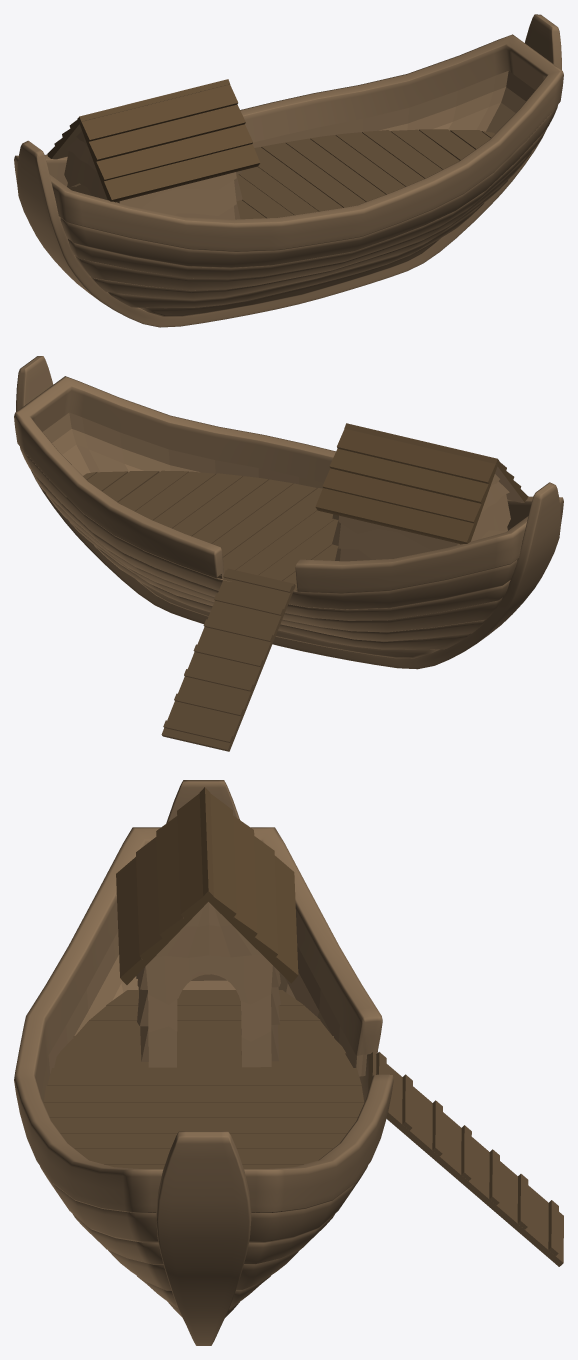
The model's file is Noah Ark - Fixed inner walls.fbx.
3 renders of one model, top to bottom at view 1: azimuth 30°, elevation 25°; view 2: azimuth 150°, elevation 25°; view 3: azimuth 270°, elevation 25°, orthographic. The views are drawn at different scales.
Visible parts, largest first — view 1: Noah_Ark; view 2: Noah_Ark; view 3: Noah_Ark.
Part boxes in pixels (<box>): Noah_Ark: <box>14,14,563,327</box>; Noah_Ark: <box>14,356,563,751</box>; Noah_Ark: <box>14,780,563,1345</box>.
Size of the model in its own units: 24.26 by 10.54 by 15.66.
